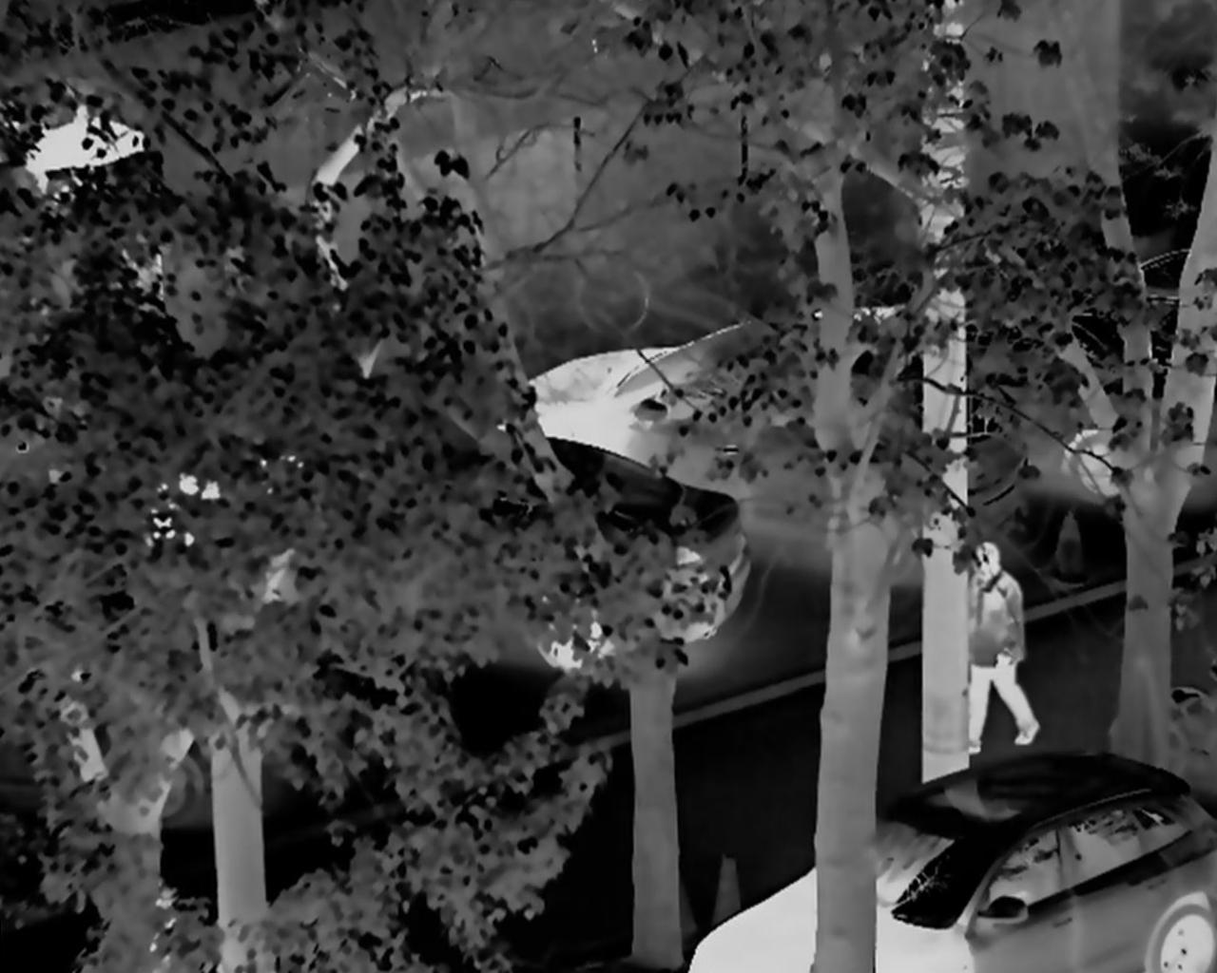person: (951, 544, 1046, 761)
